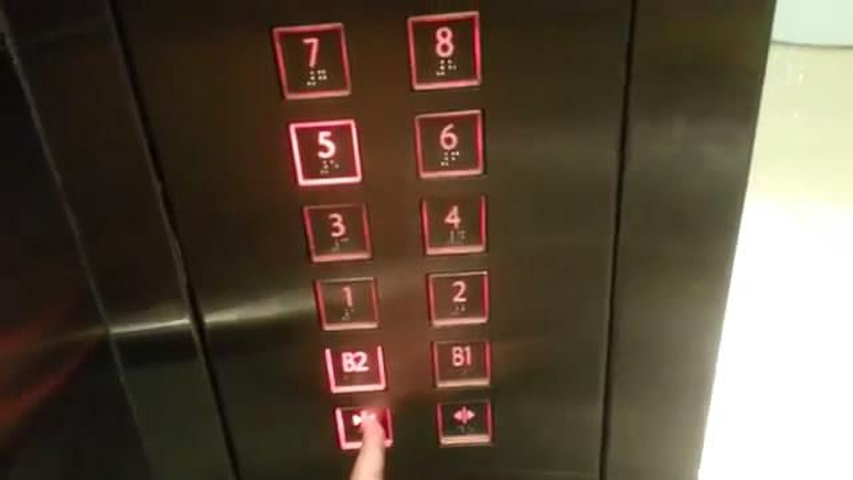1: (314, 271, 384, 331)
2: (424, 268, 493, 329)
3: (300, 198, 375, 266)
4: (418, 190, 489, 254)
5: (286, 117, 365, 187)
6: (412, 109, 486, 179)
7: (269, 19, 358, 103)
8: (404, 8, 487, 92)
B1: (431, 335, 496, 389)
B2: (320, 340, 388, 395)
open: (435, 395, 496, 447)
